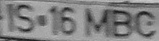1: (45, 2, 60, 37)
6: (58, 2, 77, 36)
B: (110, 6, 134, 39)
C: (133, 8, 155, 39)
I: (3, 2, 18, 34)
M: (83, 3, 110, 39)
S: (16, 2, 35, 34)
